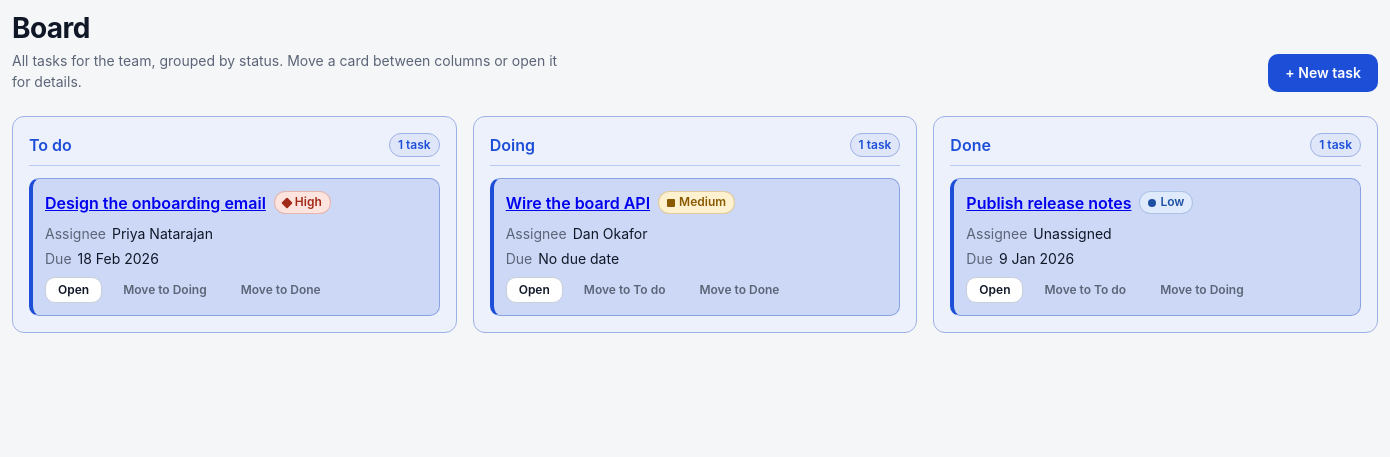
BoardPage › reports a failed move without losing the board
Click the button "Move to Done" below "No due date" at (740, 290), box [686,277,792,303]
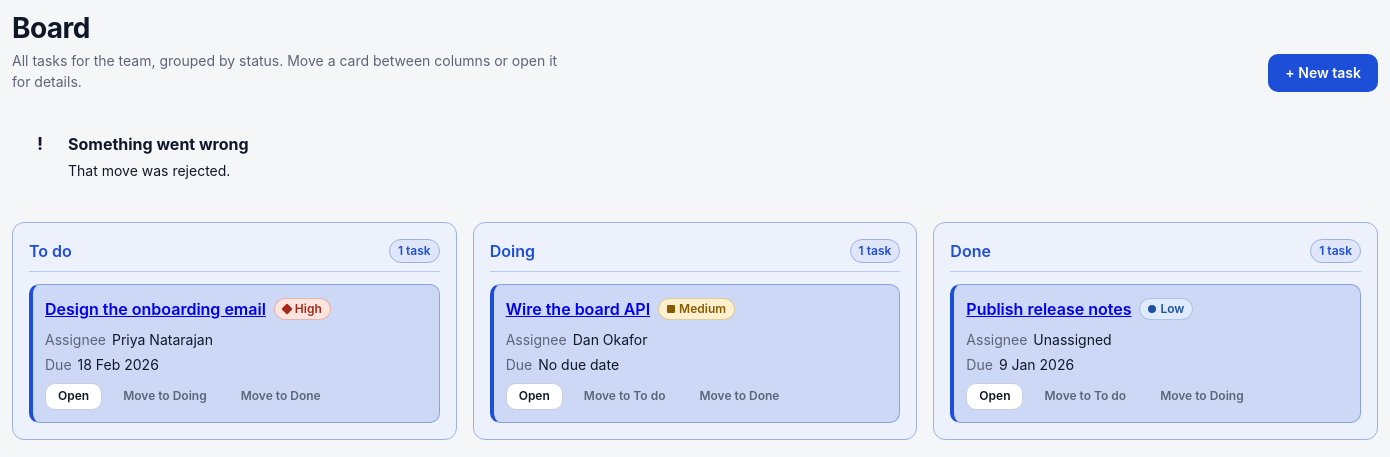
Expected: the link "Wire the board API" is shown, [506,299,650,319]
Expected: the text "That move was rejected." is shown, [68,162,230,179]
